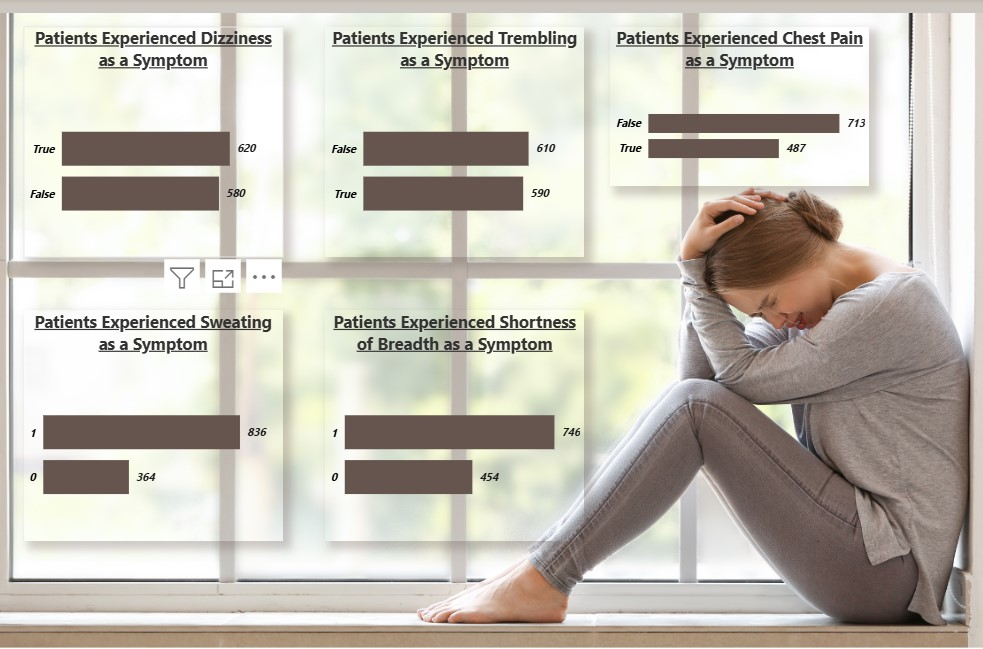

The page's visual inventory and layout, read from the dashboard file:
{"tool":"powerbi","page":{"name":"Number of Patients by Symptoms","canvas":[1280,720],"ordinal":1},"visuals":[{"type":"barChart","title":"Patients Experienced Dizziness as a Symptom","fields":{"Category":["PANIC_ATTACK_DATA.DIZZINESS"],"Y":["CountNonNull(PANIC_ATTACK_DATA.ID)"]},"box":[50,16.1,292.9,260.7],"z":0},{"type":"barChart","title":"Patients Experienced Trembling as a Symptom","fields":{"Category":["PANIC_ATTACK_DATA.TREMBLING"],"Y":["CountNonNull(PANIC_ATTACK_DATA.ID)"]},"box":[389.3,16.1,292.9,260.7],"z":1},{"type":"barChart","title":"Patients Experienced Sweating as a Symptom","fields":{"Category":["PANIC_ATTACK_DATA.SWEATING"],"Y":["CountNonNull(PANIC_ATTACK_DATA.ID)"]},"box":[50,335.7,292.9,260.7],"z":2},{"type":"barChart","title":"Patients Experienced Shortness of Breadth as a Symptom","fields":{"Category":["PANIC_ATTACK_DATA.SHORTNESS_OF_BREATH"],"Y":["CountNonNull(PANIC_ATTACK_DATA.ID)"]},"box":[389.3,335.7,292.9,260.7],"z":3},{"type":"barChart","title":"Patients Experienced Chest Pain as a Symptom","fields":{"Category":["PANIC_ATTACK_DATA.CHEST_PAIN"],"Y":["CountNonNull(PANIC_ATTACK_DATA.ID)"]},"box":[712.5,16.1,292.9,180.4],"z":4}]}

Visuals, with their boxes on the page's 1280x720 design canvas (x1, y1, x2, y2). These are canvas units, not pixel positions in the 983x649 screenshot, which may show the page scaled, cropped or inside an application window:
"Patients Experienced Dizziness as a Symptom" barChart: (left=50, top=16, right=343, bottom=277)
"Patients Experienced Trembling as a Symptom" barChart: (left=389, top=16, right=682, bottom=277)
"Patients Experienced Sweating as a Symptom" barChart: (left=50, top=336, right=343, bottom=596)
"Patients Experienced Shortness of Breadth as a Symptom" barChart: (left=389, top=336, right=682, bottom=596)
"Patients Experienced Chest Pain as a Symptom" barChart: (left=712, top=16, right=1005, bottom=196)
